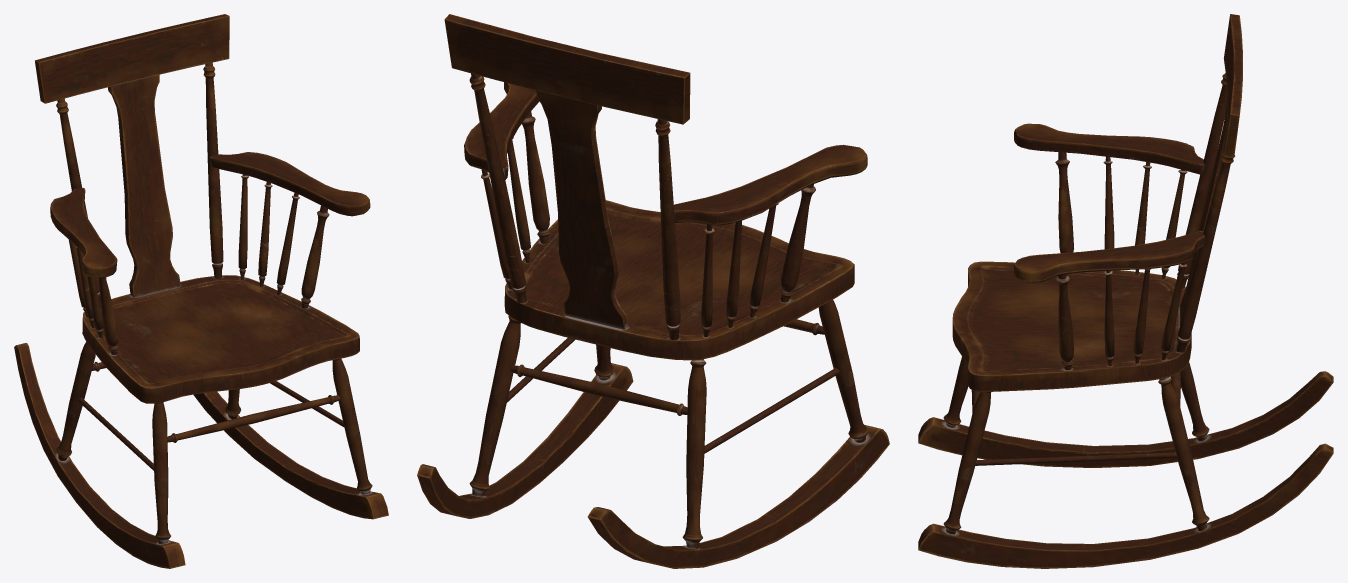
Rendered from Rockingchair_01.glb.
3 renders of one model, left to right at view 1: azimuth 30°, elevation 25°; view 2: azimuth 150°, elevation 25°; view 3: azimuth 270°, elevation 25°, orthographic. The views are drawn at different scales.
Parts seen in each view (by area): view 1: Rockingchair_01; view 2: Rockingchair_01; view 3: Rockingchair_01.
Boxes of the visible parts, box(x1,y1,x2,y2) form: Rockingchair_01: box(14, 14, 388, 568); Rockingchair_01: box(417, 14, 889, 568); Rockingchair_01: box(918, 14, 1333, 568).
Size of the model in its own units: 0.7081 by 0.9949 by 0.8335.
Materials: 1 (1 with a texture image).
